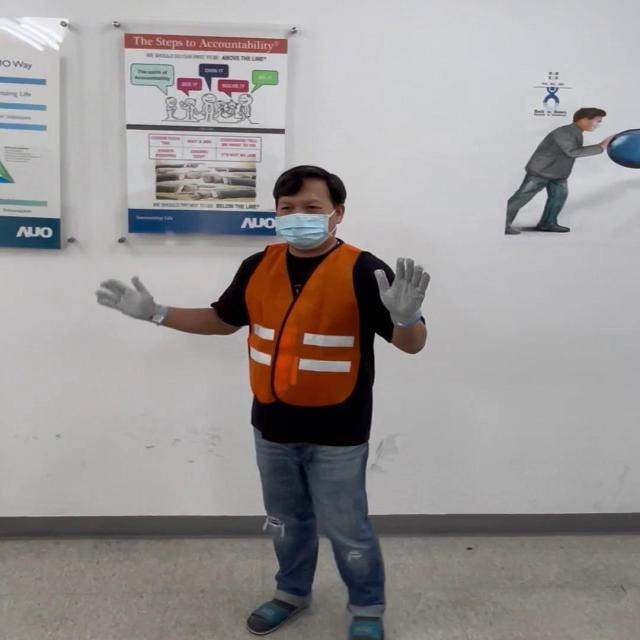gloved_hand: (369, 245, 424, 328), (101, 270, 154, 329)
